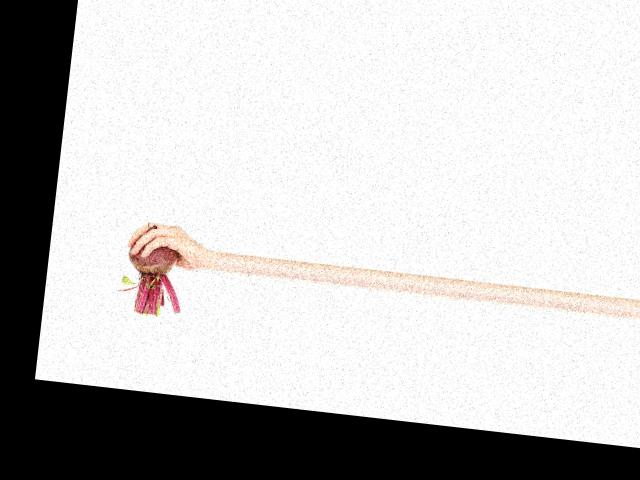beet: (115, 221, 189, 318)
